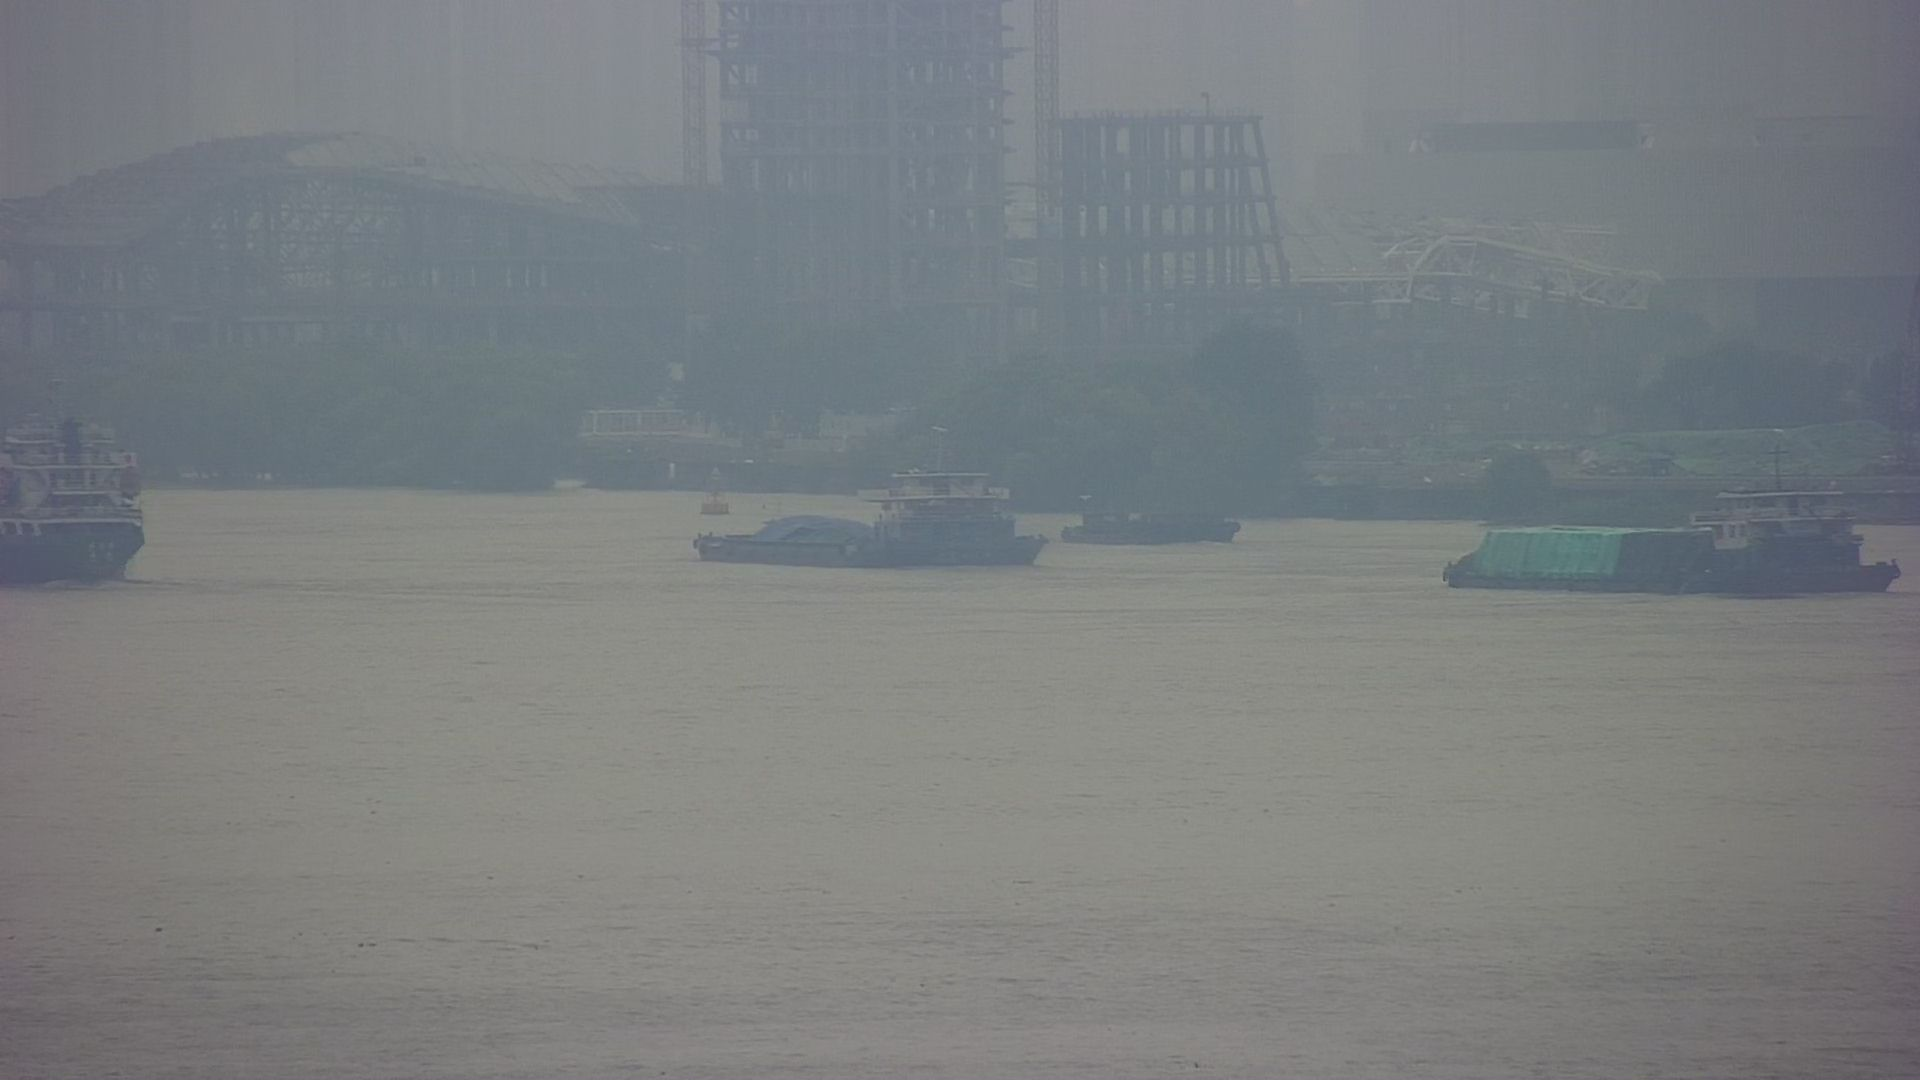boat: (1058, 469, 1255, 556)
buoy: (684, 458, 742, 527)
ship: (1433, 434, 1915, 600), (680, 414, 1067, 589), (1, 384, 185, 597)
